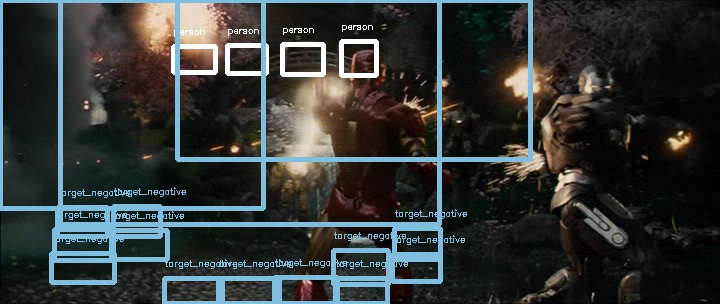person: (345, 43, 385, 85), (344, 43, 384, 85), (346, 43, 386, 85), (345, 42, 385, 84), (345, 44, 385, 86)
target_negative: (41, 133, 594, 219), (376, 127, 533, 302), (296, 31, 694, 86), (388, 272, 716, 289), (310, 104, 329, 219), (622, 286, 660, 302)
